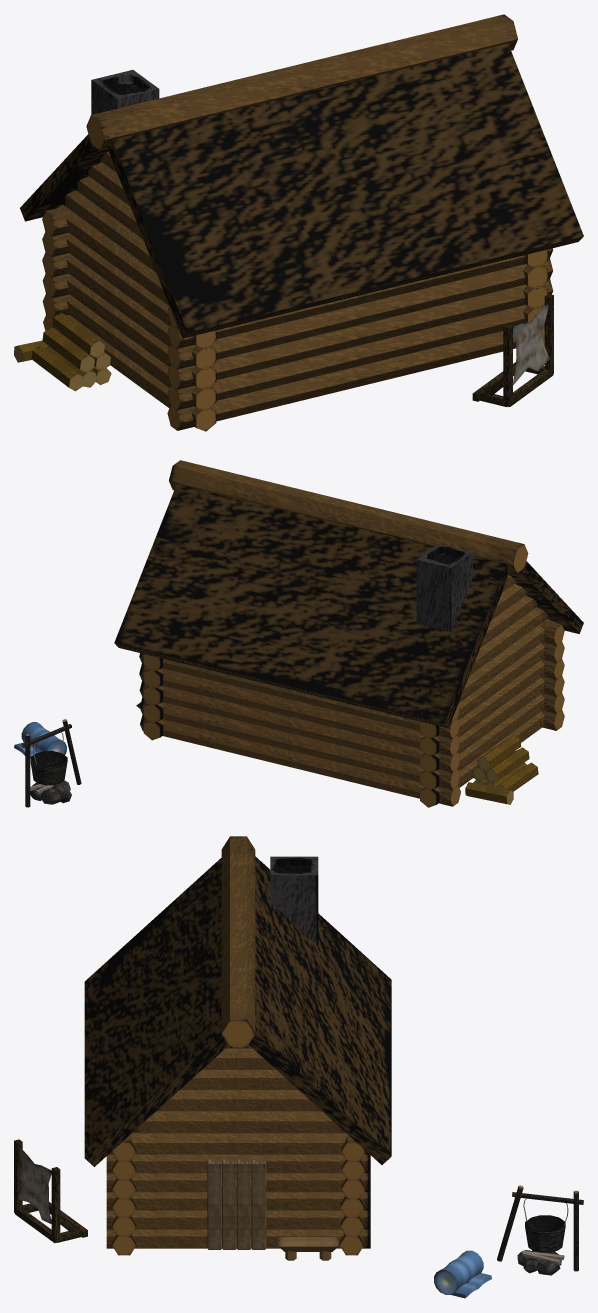
The model's file is LogCabin.fbx.
3 renders of one model, top to bottom at view 1: azimuth 30°, elevation 25°; view 2: azimuth 150°, elevation 25°; view 3: azimuth 270°, elevation 25°, orthographic. The views are drawn at different scales.
Visible parts, largest first — view 1: LogCabin, LogCabin_DryingRack, LogCabin_Firewood; view 2: LogCabin, LogCabin_Firewood, LogCabin_CampFire, LogCabin_SleepingMat; view 3: LogCabin, LogCabin_DryingRack, LogCabin_CampFire, LogCabin_SleepingMat, LogCabin_Seat.
Boxes of the visible parts, box(x1,y1,x2,y2) form: LogCabin: box(20, 14, 583, 431); LogCabin_DryingRack: box(472, 294, 553, 406); LogCabin_Firewood: box(14, 312, 111, 391); LogCabin: box(114, 460, 583, 807); LogCabin_Firewood: box(465, 735, 538, 804); LogCabin_CampFire: box(21, 719, 81, 807); LogCabin_SleepingMat: box(14, 722, 66, 758); LogCabin: box(84, 836, 391, 1255); LogCabin_DryingRack: box(14, 1139, 87, 1243); LogCabin_CampFire: box(497, 1185, 583, 1275); LogCabin_SleepingMat: box(434, 1250, 491, 1298); LogCabin_Seat: box(278, 1237, 338, 1260).
Bounding box in the file's own units: 13.68 × 7.09 × 14.27.
Materials: 6 (6 with a texture image).
